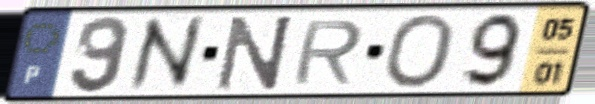9: (458, 10, 525, 91), (68, 13, 132, 96)
N: (213, 12, 298, 93), (125, 13, 207, 96)
O: (380, 11, 458, 91)
R: (287, 17, 366, 87)
